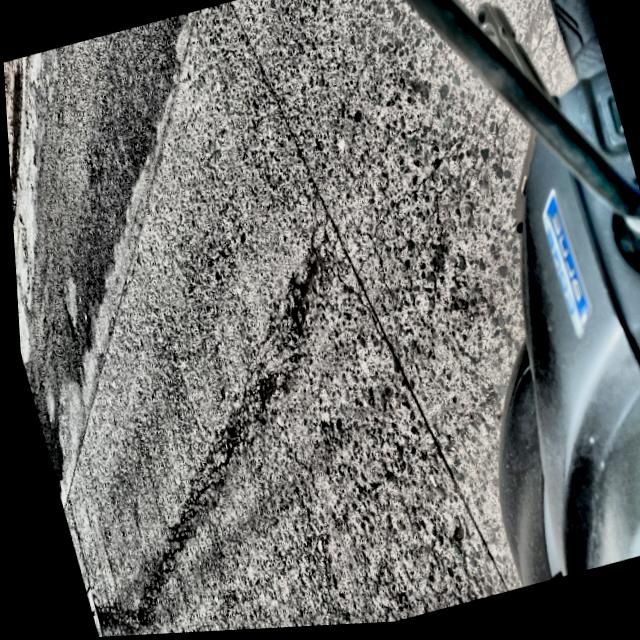cracks: (115, 267, 320, 627)
